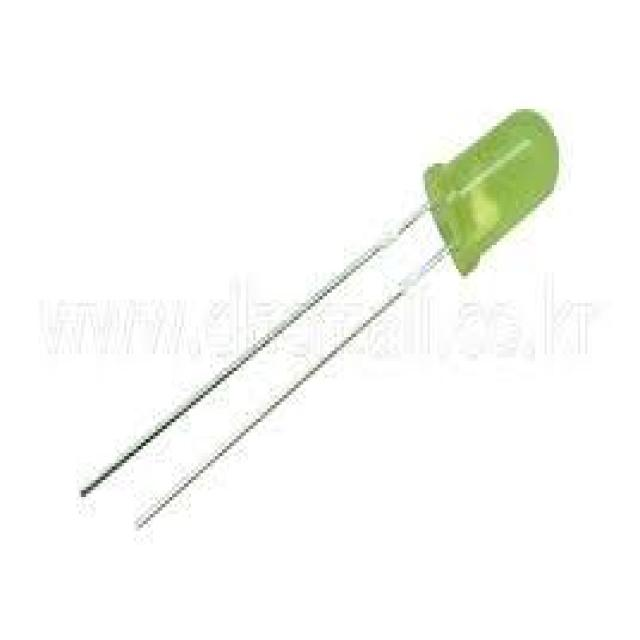Led: (81, 110, 554, 525)
